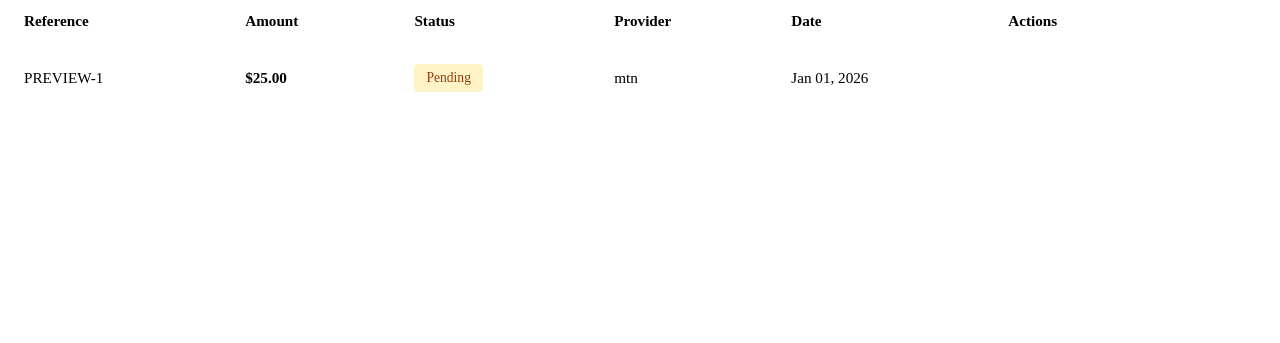
Scenario: TransactionsTable preview › shows the preview after keyboard focus and dismisses it on blur
The width and height of the screenshot is (1280, 343).
Focus the row with test id "transaction-row-preview-1": (640,78) [8,46,1272,110]
Wait 200 ms
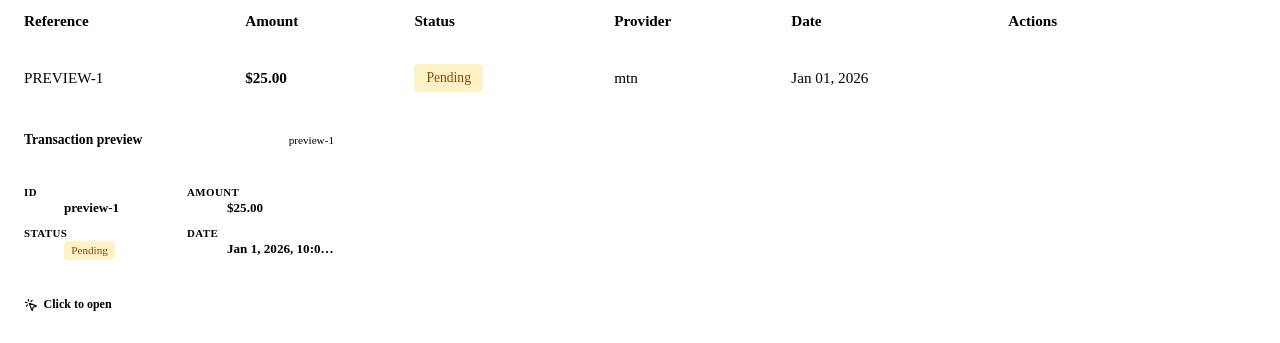
Expected: the tooltip with test id "transaction-row-preview" is shown, [8,118,350,326]
Leave the row with test id "transaction-row-preview-1", box [8,46,1272,110]
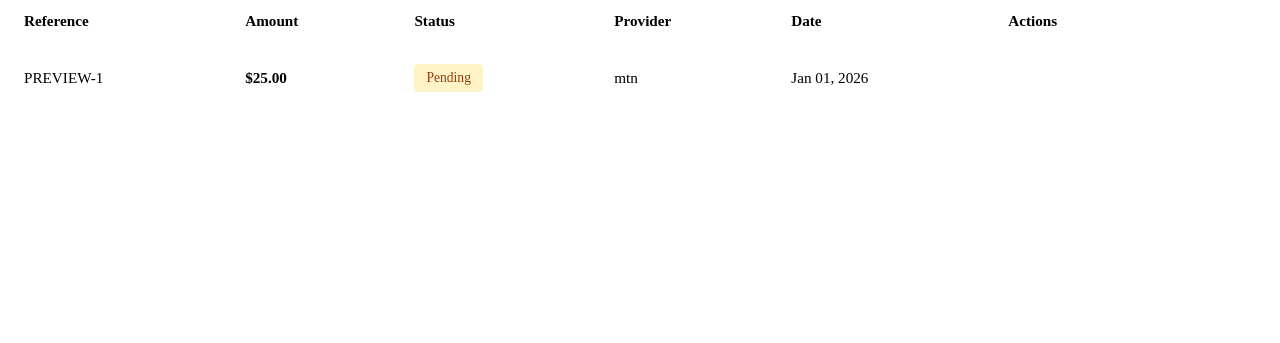
Expected: the tooltip with test id "transaction-row-preview" is gone
